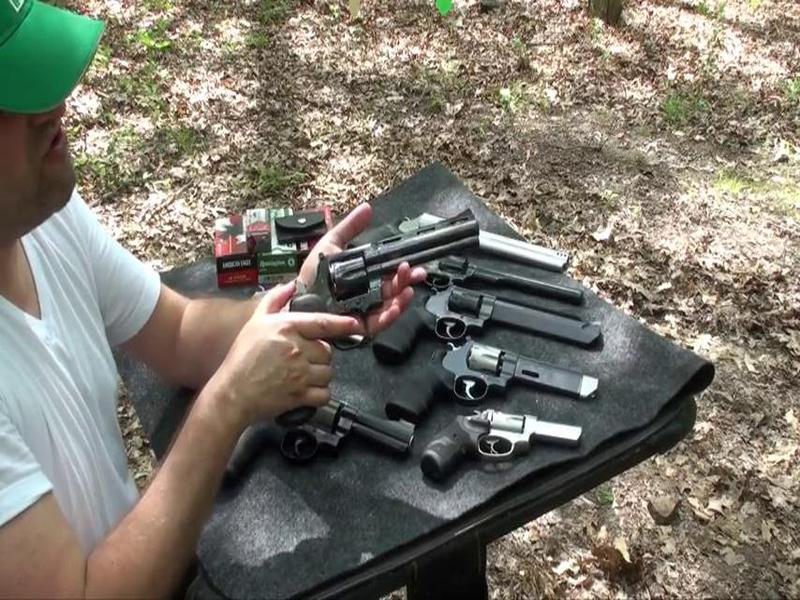Revolver: (287, 204, 483, 353)
